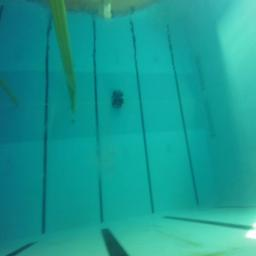front: (112, 97, 124, 109)
